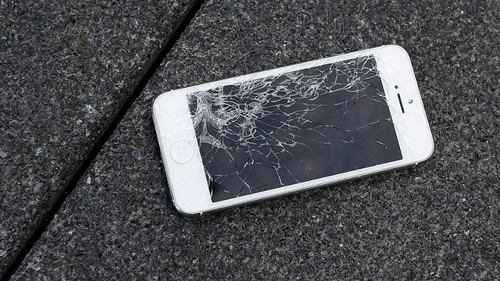phone: (139, 31, 446, 206)
